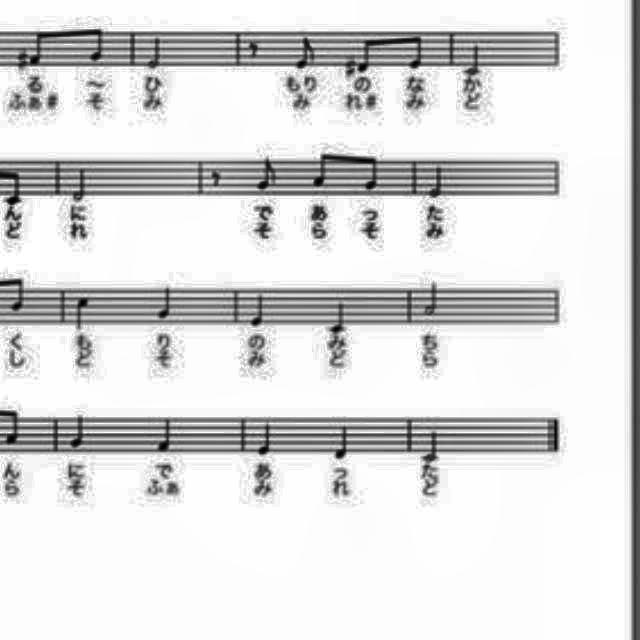Eighth-note: (306, 148, 342, 190), (1, 162, 32, 210), (290, 32, 326, 72), (1, 273, 32, 317), (85, 21, 109, 73), (255, 148, 279, 196), (0, 408, 28, 448), (26, 24, 50, 70), (361, 149, 384, 195), (408, 32, 428, 76), (356, 32, 376, 74)
Eighth-rest: (240, 36, 264, 64), (203, 167, 227, 190)
Half-note: (458, 38, 492, 78), (416, 424, 444, 464), (419, 276, 443, 320), (422, 162, 448, 202), (64, 164, 88, 204), (144, 32, 164, 72)
Quarter-note: (155, 410, 181, 458), (61, 412, 90, 454), (332, 416, 356, 460), (72, 296, 98, 336), (153, 281, 179, 321), (255, 414, 275, 462), (326, 299, 349, 335), (250, 290, 270, 330)
